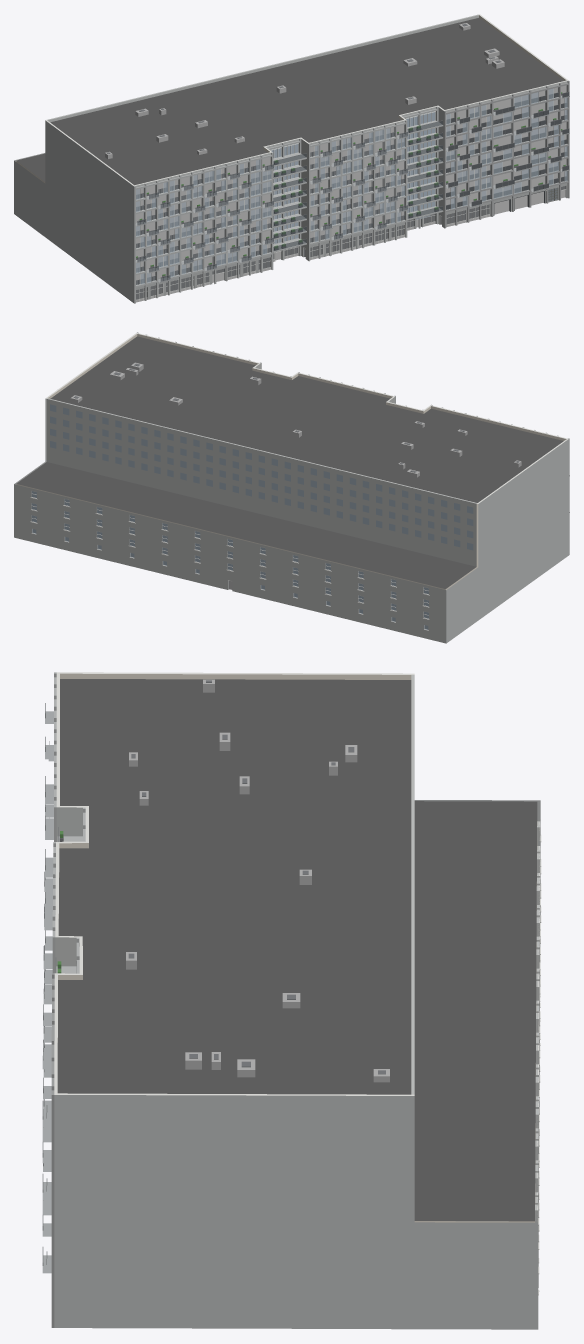
The model's file is exterior.glb.
The picture shows the model from 3 angles, top to bottom: view 1: azimuth 30°, elevation 25°; view 2: azimuth 150°, elevation 25°; view 3: azimuth 270°, elevation 25°; orthographic projection. The views are drawn at different scales.
Parts seen in each view (by area): view 1: roof, storefront, shell, shadow-proxy, glazing, relief-3, relief-11, relief-7, frames, shell-step, rooftop-units, relief-9 (+2 smaller); view 2: shell, roof, shell-step, roof-low, glazing-step, glazing, shadow-proxy, rooftop-units, frames, trim; view 3: roof, shell, roof-low, storefront, rooftop-units, shell-step, relief-11.
Boxes of the visible parts, x1,y1,x2,y2 form: roof: (50, 18, 563, 185); storefront: (135, 85, 569, 302); shell: (14, 14, 568, 302); shadow-proxy: (136, 85, 566, 299); glazing: (136, 92, 569, 299); relief-3: (133, 152, 273, 303); relief-11: (444, 80, 569, 228); relief-7: (308, 120, 407, 261); frames: (140, 88, 567, 284); shell-step: (47, 14, 478, 122); rooftop-units: (105, 23, 504, 158); relief-9: (401, 106, 438, 228); shell: (14, 333, 568, 643); roof: (50, 336, 563, 502); shell-step: (46, 398, 477, 566); roof-low: (16, 462, 476, 588); glazing-step: (50, 404, 473, 550); glazing: (31, 491, 428, 629); shadow-proxy: (32, 487, 445, 628); rooftop-units: (70, 362, 521, 477); frames: (31, 490, 428, 619); trim: (30, 497, 429, 630); roof: (57, 679, 411, 1094); shell: (54, 672, 540, 1329); roof-low: (414, 801, 537, 1221); storefront: (42, 703, 539, 1273); rooftop-units: (126, 679, 389, 1082); shell-step: (411, 675, 414, 1094); relief-11: (51, 973, 54, 1327).
Bounding box in the file's own units: 103 × 26.84 × 51.08.
